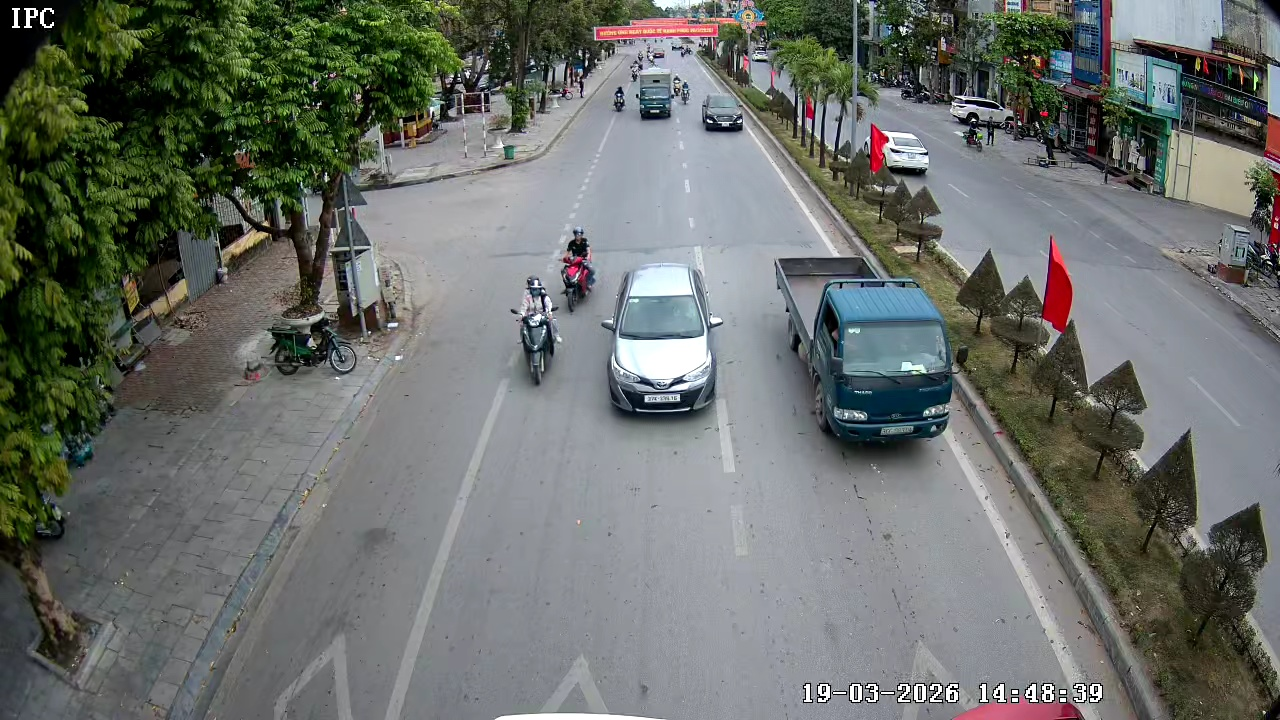car: (603, 264, 723, 418), (699, 95, 745, 132)
motorbike: (508, 274, 563, 387), (265, 317, 360, 379), (558, 226, 598, 311), (613, 84, 627, 111)
truck: (773, 232, 971, 438), (634, 65, 678, 124)
